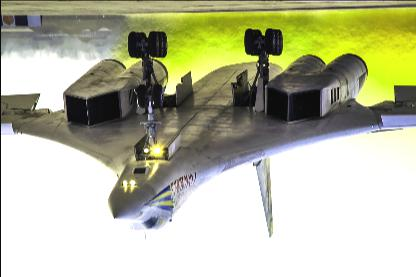Su34: (1, 26, 415, 239)
